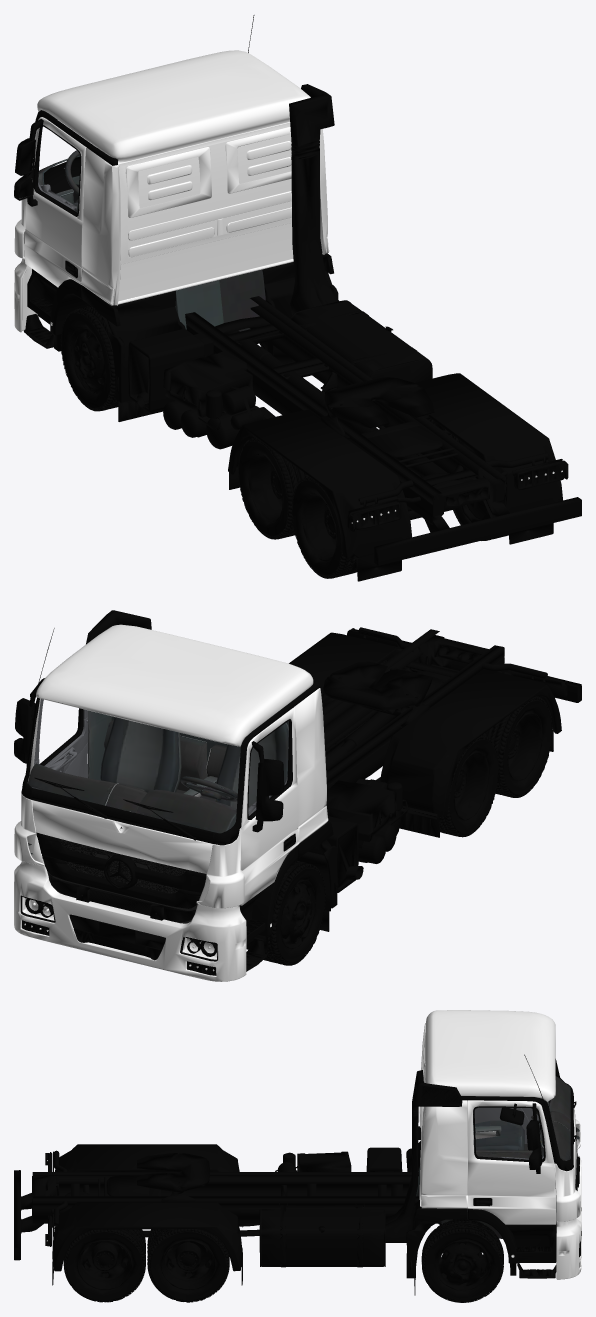
Rendered from tractor_merc.glb.
3 renders of one model, top to bottom at view 1: azimuth 30°, elevation 25°; view 2: azimuth 150°, elevation 25°; view 3: azimuth 270°, elevation 25°, orthographic. The views are drawn at different scales.
Parts seen in each view (by area): view 1: body; view 2: body; view 3: body.
Boxes of the visible parts, x1=… form: body: x1=14, y1=15, x2=581, y2=581; body: x1=14, y1=610, x2=581, y2=981; body: x1=14, y1=1010, x2=581, y2=1302.
Size of the model in its own units: 3.38 by 3.78 by 7.92.
Materials: 5 (1 with a texture image).
